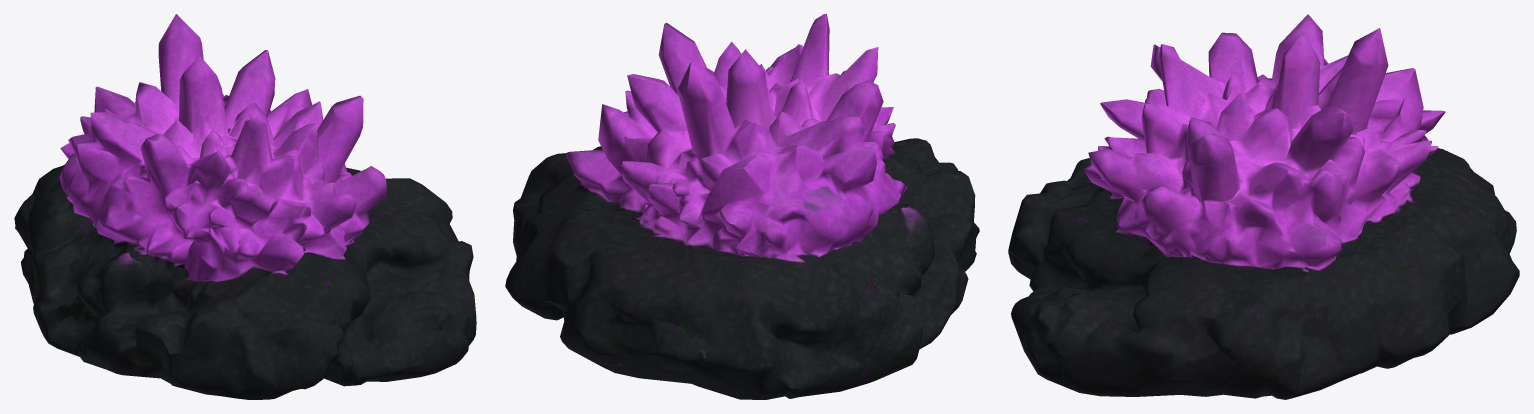
File: crystal.glb
3 views of the same model, side by side, from view 1: azimuth 30°, elevation 25°; view 2: azimuth 150°, elevation 25°; view 3: azimuth 270°, elevation 25° (orthographic). The views are drawn at different scales.
Visible parts, largest first — view 1: Mesh_0; view 2: Mesh_0; view 3: Mesh_0.
Part boxes in pixels (x1,y1,x2,y2): Mesh_0: (14,14,476,399); Mesh_0: (505,14,979,399); Mesh_0: (1008,14,1519,399).
Bounding box in the file's own units: 1.76 × 1.18 × 1.89.
Materials: 1 (1 with a texture image).
